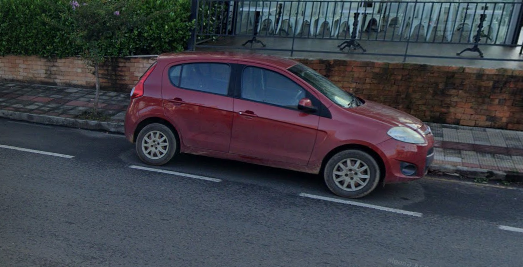car: (120, 42, 437, 208)
